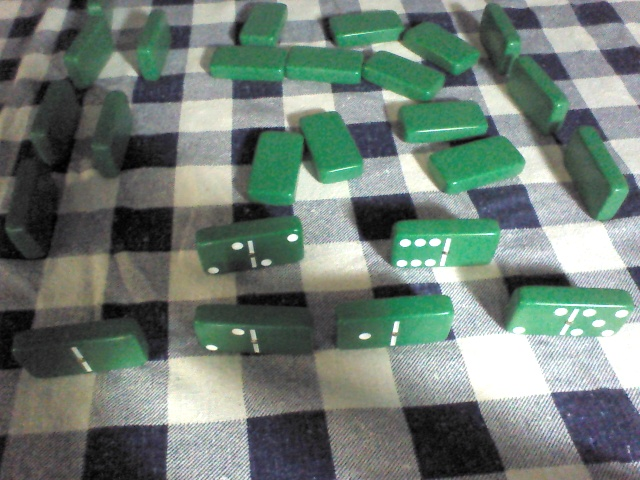A: (427, 130, 527, 192), (295, 109, 364, 188), (244, 122, 305, 201), (358, 43, 443, 99), (400, 16, 476, 71), (397, 97, 491, 140), (209, 39, 286, 88), (278, 42, 365, 85), (321, 3, 405, 45), (234, 2, 290, 49)
C: (7, 159, 59, 261), (131, 7, 180, 86), (61, 16, 115, 87), (32, 79, 75, 164), (94, 90, 132, 184)
D: (554, 119, 633, 232), (502, 54, 567, 135), (477, 6, 523, 75)
E: (13, 317, 153, 380), (334, 284, 457, 353), (508, 278, 632, 343), (193, 300, 321, 361), (380, 213, 501, 272), (194, 221, 308, 272)
